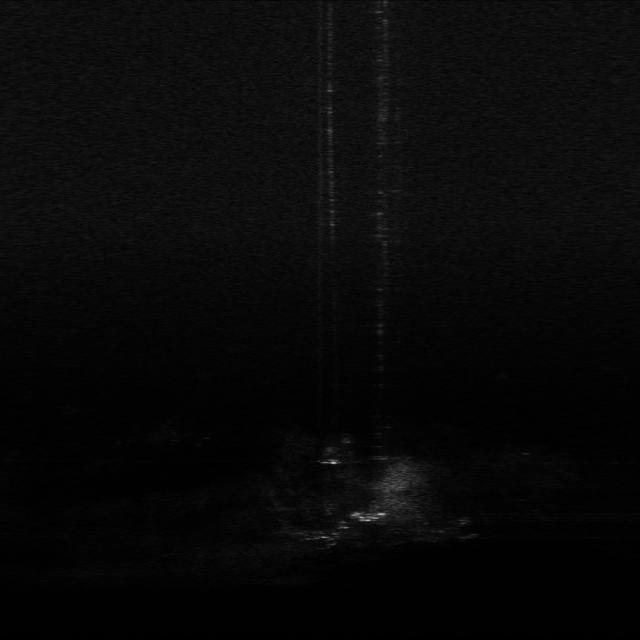rov: (348, 505, 388, 525)
